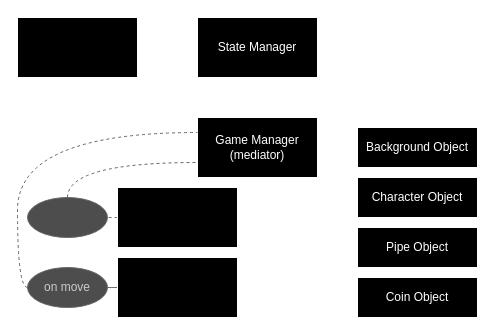
Image size: 495x335. Some labels were removed from this diagram. Each missing label, with the centre of its shape:
"Controls Manager" belongs at (x=177, y=287).
"Obstacles Manager" belongs at (x=177, y=217).
"on collision" belongs at (x=67, y=217).
"UI (React)" belongs at (x=77, y=47).
